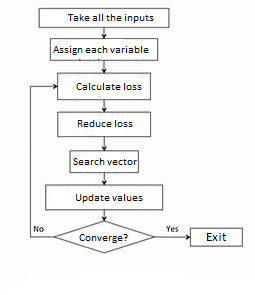arrow: (27, 84, 59, 237), (151, 233, 192, 241), (100, 210, 109, 222), (101, 171, 107, 186), (101, 59, 107, 74), (101, 25, 107, 39), (101, 136, 106, 151), (101, 98, 106, 112)
decision: (53, 220, 157, 255)
process: (43, 183, 166, 212), (35, 6, 172, 30), (47, 36, 161, 63), (55, 71, 153, 101), (55, 110, 152, 139), (68, 148, 140, 174)
text: (51, 45, 150, 56), (66, 12, 154, 24), (74, 80, 143, 92), (73, 192, 144, 203), (77, 118, 134, 129), (78, 232, 129, 244), (71, 156, 136, 164), (205, 230, 227, 243), (165, 224, 180, 232), (31, 224, 44, 233)
